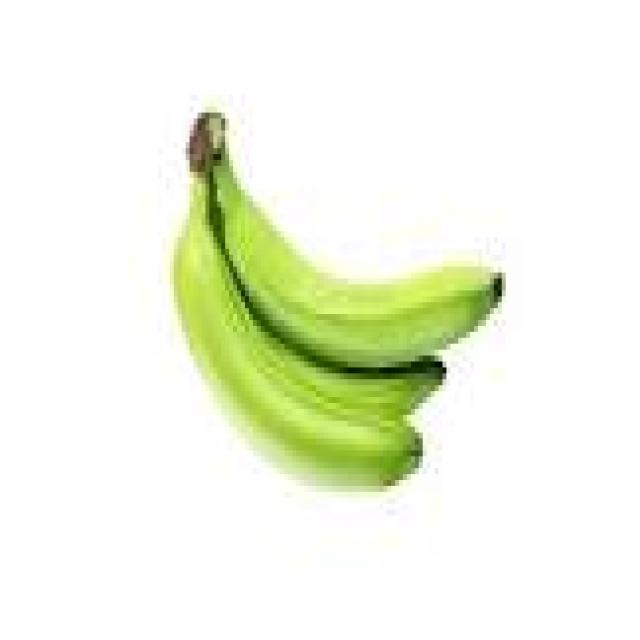banana: (174, 172, 422, 485), (198, 113, 501, 367), (253, 320, 446, 414)
